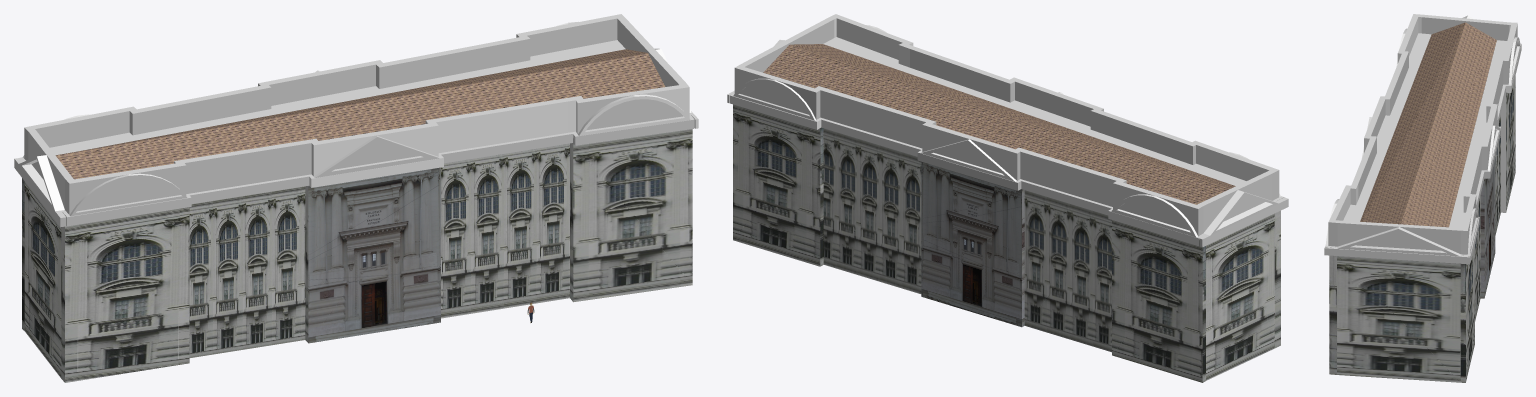
The model's file is Severin.fbx.
3 renders of one model, left to right at view 1: azimuth 30°, elevation 25°; view 2: azimuth 150°, elevation 25°; view 3: azimuth 270°, elevation 25°, orthographic. The views are drawn at different scales.
Parts seen in each view (by area): view 1: Componente1; view 2: Componente1; view 3: Componente1.
Part boxes in pixels (box(x1,y1,x2,y2)): Componente1: box(14, 14, 698, 382); Componente1: box(727, 14, 1288, 382); Componente1: box(1324, 14, 1521, 382).
Bounding box in the file's own units: 55.9 × 17.6 × 21.6.
